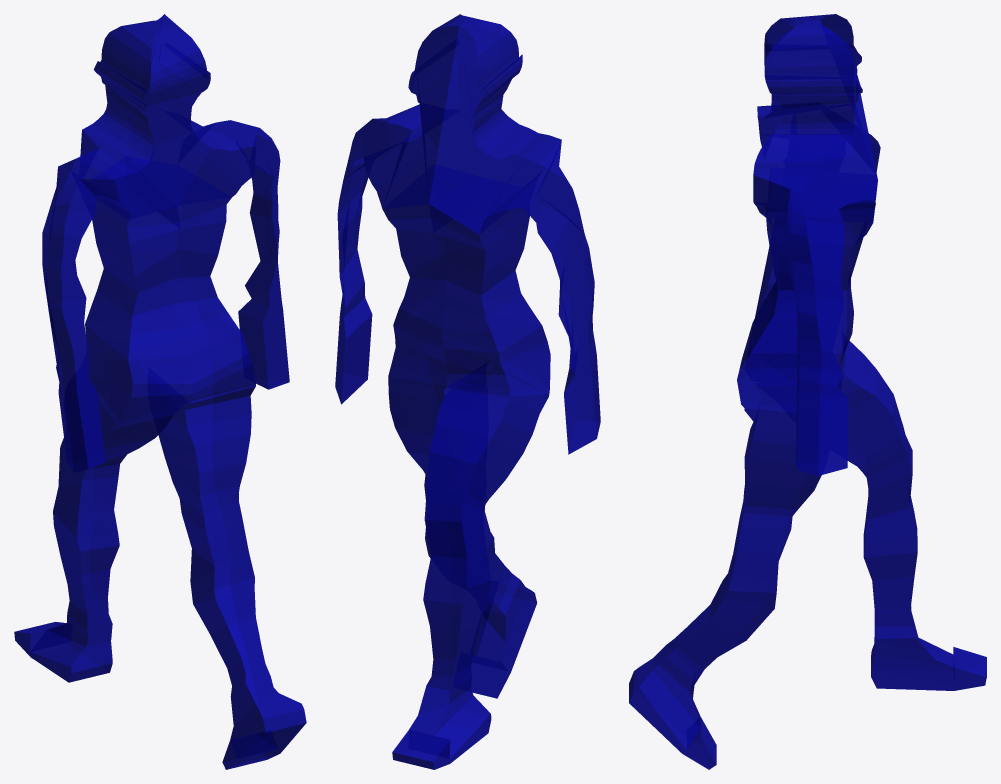
File: woman_000034.obj
3 views of the same model, side by side, from view 1: azimuth 30°, elevation 25°; view 2: azimuth 150°, elevation 25°; view 3: azimuth 270°, elevation 25° (orthographic).
Visible parts, largest first — view 1: Cube_Cube.001; view 2: Cube_Cube.001; view 3: Cube_Cube.001.
Part boxes in pixels (x1,y1,x2,y2): Cube_Cube.001: [14, 14, 306, 769]; Cube_Cube.001: [335, 14, 600, 769]; Cube_Cube.001: [629, 14, 986, 769].
Bounding box in the file's own units: 3.63 × 10.18 × 4.58.
